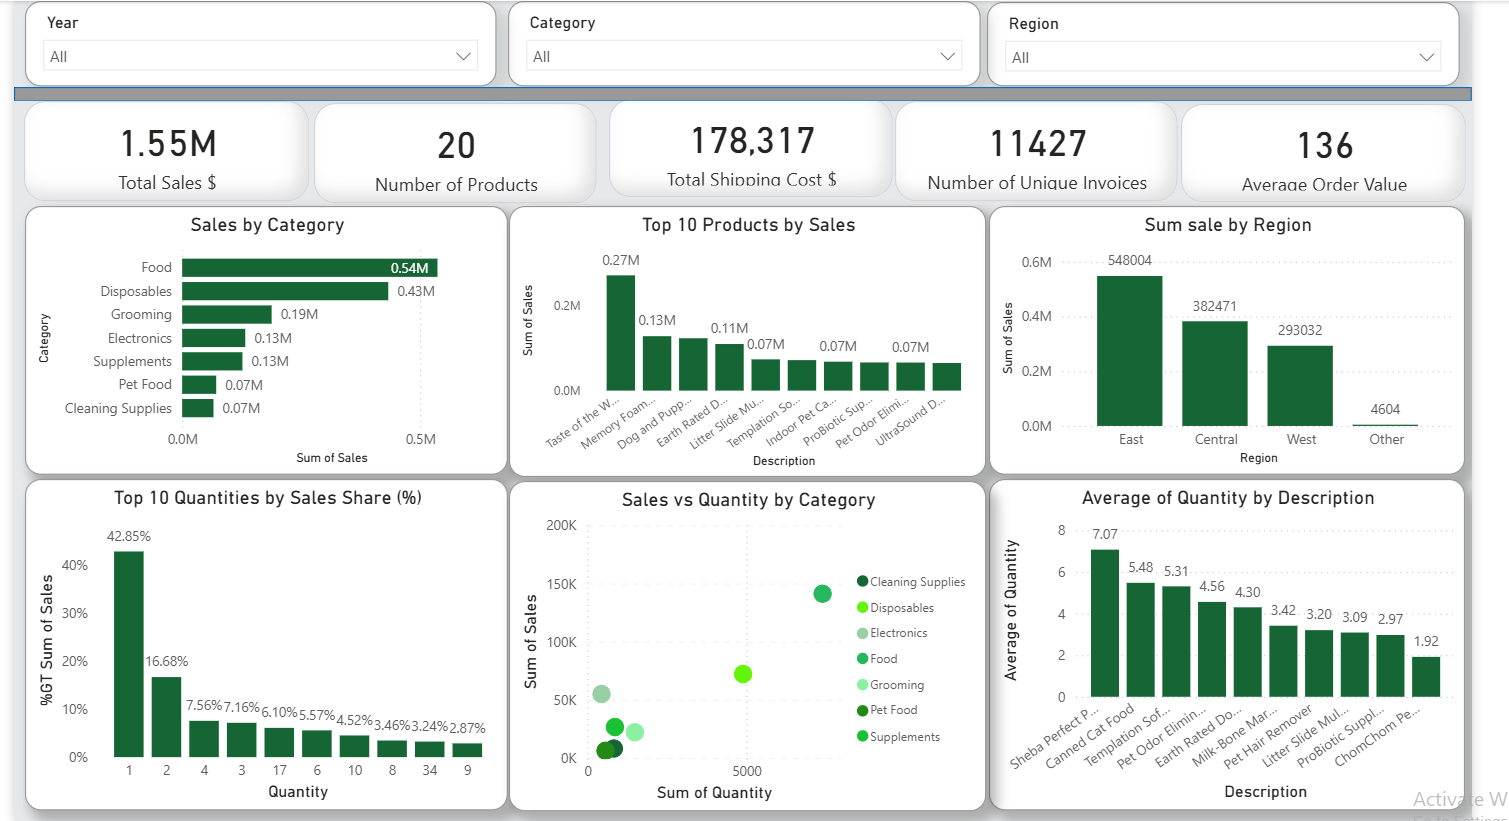

This screenshot's page, from the dashboard's own definition file:
{"tool":"powerbi","page":{"name":"Product & Sales Analytics","canvas":[1280,720],"ordinal":2},"visuals":[{"type":"slicer","fields":{"Values":["state_mapping.Region"]},"box":[854.1,1.1,414.8,74.3],"z":0},{"type":"slicer","fields":{"Values":["products.Category"]},"box":[433.7,0,414.8,75.4],"z":1000},{"type":"slicer","fields":{"Values":["Market Basket.Transaction Date.Variation.Date Hierarchy.Year"]},"box":[10,0,413.7,75.4],"z":2000},{"type":"card","fields":{"Values":["measure.Total Shipping Cost"]},"box":[522.1,85.9,249,85.9],"z":4000},{"type":"card","fields":{"Values":["measure.Total Sales"]},"box":[8.8,88.1,250.1,88.1],"z":5000},{"type":"card","fields":{"Values":["measure.Number of Products"]},"box":[263.3,89.2,247.8,88.1],"z":6000},{"type":"shape","box":[0,75.7,1280,12.5],"z":7000},{"type":"barChart","title":"Sales by Category","fields":{"Category":["products.Category"],"Y":["Sum(sales.Sales)"]},"box":[9.8,180,424,236.1],"z":8000},{"type":"columnChart","title":"Top 10 Products by Sales","fields":{"Category":["sales.Description"],"Y":["Sum(sales.Sales)"]},"box":[434.9,180,419.1,238.1],"z":9000},{"type":"card","fields":{"Values":["measure.Number of Invoices"]},"box":[773.3,87.6,247.9,87.6],"z":10000},{"type":"card","fields":{"Values":["measure.Average Order Value"]},"box":[1024.4,90.3,250.1,85.9],"z":11000},{"type":"clusteredColumnChart","title":"Sum sale  by Region","fields":{"Category":["state_mapping.Region"],"Y":["Sum(sales.Sales)"]},"box":[856,180,418.1,236.1],"z":12000},{"type":"columnChart","fields":{"Category":["sales.Description"],"Y":["Avg(sales.Quantity)"]},"box":[856,420.1,418.1,291.2],"z":13000},{"type":"clusteredColumnChart","title":"Top 10 Quantities by Sales Share (%)","fields":{"Category":["sales.Quantity"],"Y":["Sum(sales.Sales)"]},"box":[9.8,420.1,424,291.2],"z":14000},{"type":"scatterChart","title":" Sales vs Quantity by Category ","fields":{"X":["Sum(sales.Quantity)"],"Y":["Sum(sales.Sales)"],"Series":["products.Category"]},"box":[434.9,421.1,419.1,290.2],"z":15000}]}

Visuals, with their boxes in screenshot pixels (x1, y1, x2, y2):
slicer - state_mapping.Region: detection(984, 1, 1451, 85)
slicer - products.Category: detection(511, 0, 978, 85)
slicer - Market Basket.Transaction Date.Variation.Date Hierarchy.Year: detection(35, 0, 500, 85)
card - measure.Total Shipping Cost: detection(611, 97, 891, 193)
card - measure.Total Sales: detection(33, 99, 315, 198)
card - measure.Number of Products: detection(320, 100, 599, 199)
shape: detection(24, 85, 1463, 99)
"Sales by Category" barChart: detection(35, 202, 512, 468)
"Top 10 Products by Sales" columnChart: detection(513, 202, 984, 470)
card - measure.Number of Invoices: detection(893, 99, 1172, 197)
card - measure.Average Order Value: detection(1176, 102, 1457, 198)
"Sum sale  by Region" clusteredColumnChart: detection(987, 202, 1457, 468)
columnChart - sales.Description x Avg(sales.Quantity): detection(987, 473, 1457, 800)
"Top 10 Quantities by Sales Share (%)" clusteredColumnChart: detection(35, 473, 512, 800)
" Sales vs Quantity by Category " scatterChart: detection(513, 474, 984, 800)
